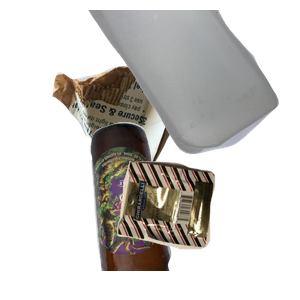cardboard: (50, 62, 228, 226)
glass: (88, 120, 252, 300)
plastic: (84, 10, 300, 157)
trash: (115, 158, 300, 300)
